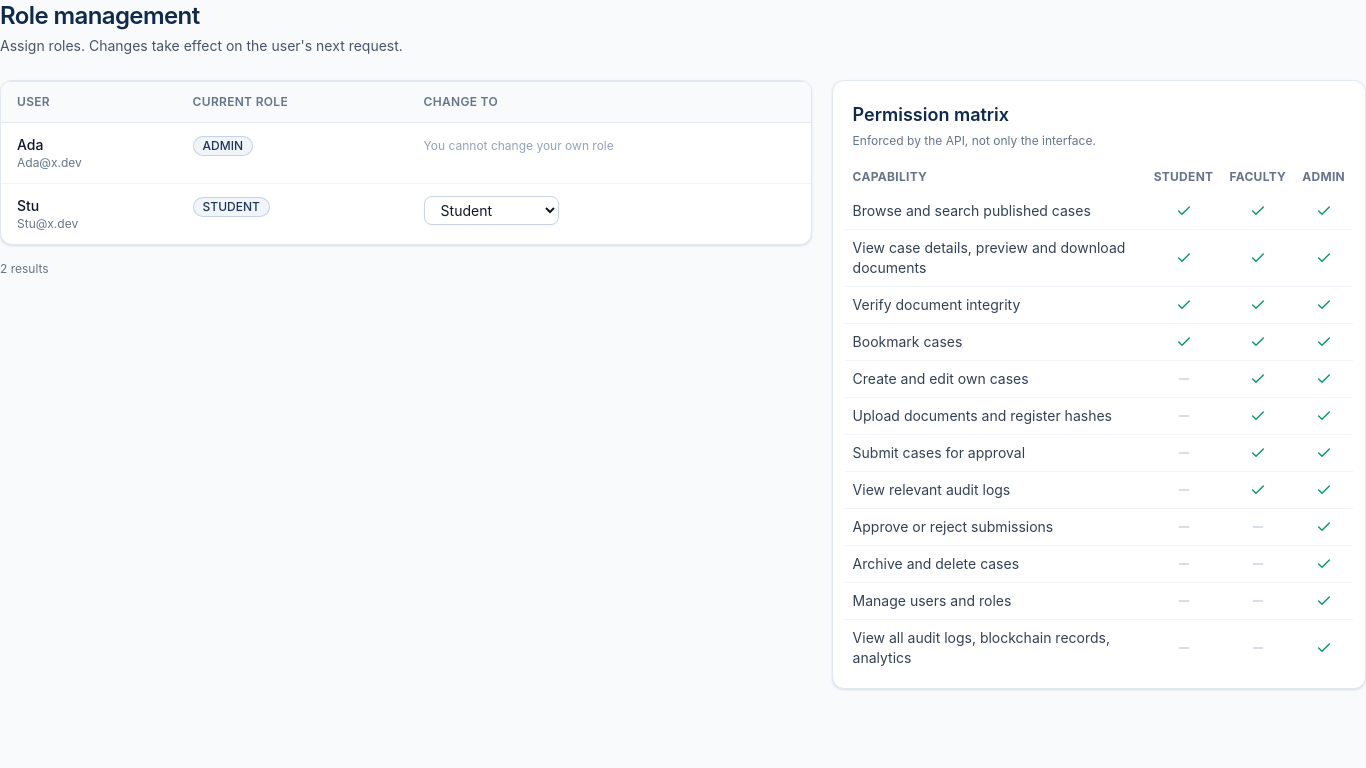
RoleManagement › asks for confirmation before changing a role, and only then calls the API
The image size is (1366, 768).
Later steps or results of the test are not shown.
Select "Administrator" in the dropdown named "Change role for Stu" at (491, 210), box [424,196,559,225]
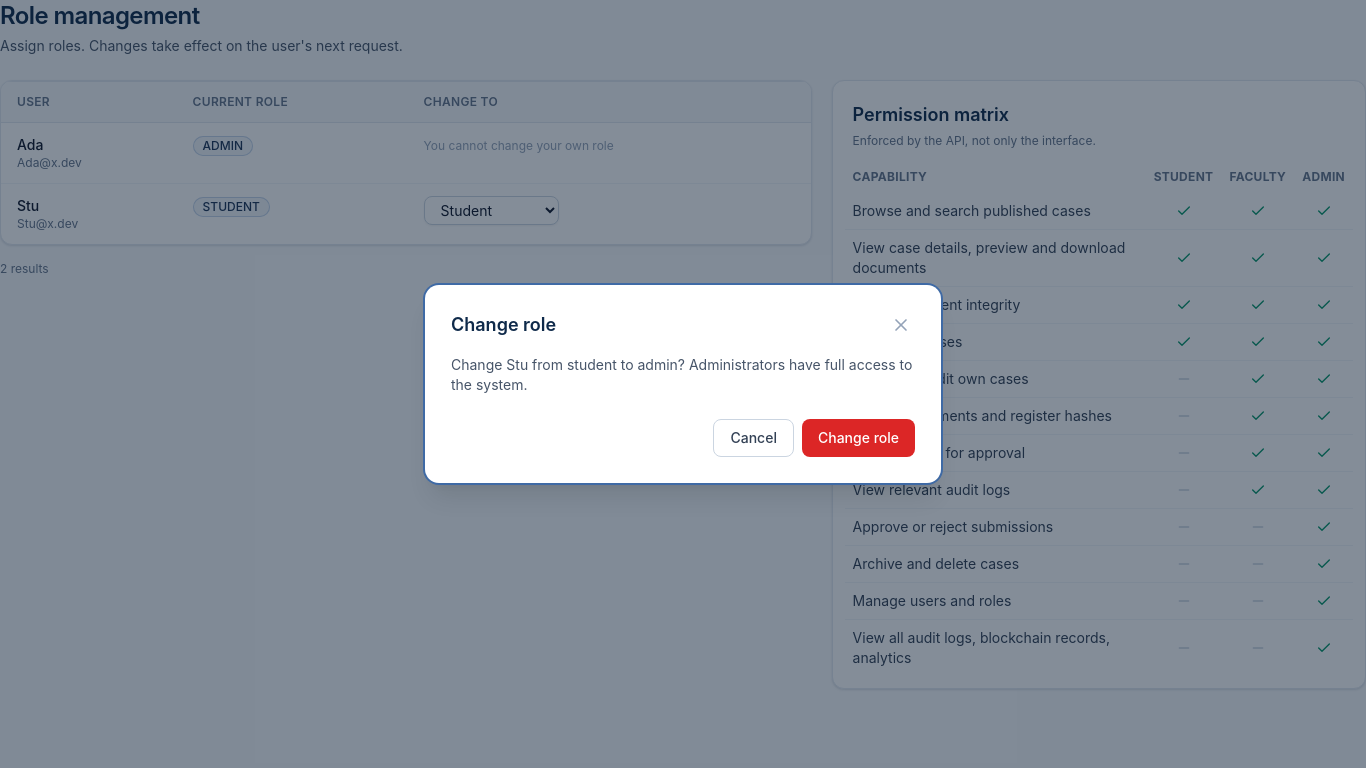
Now the dialog "Change role" shows "full access", box [451,356,912,393]
